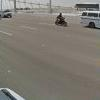Bus: (1, 6, 12, 20)
